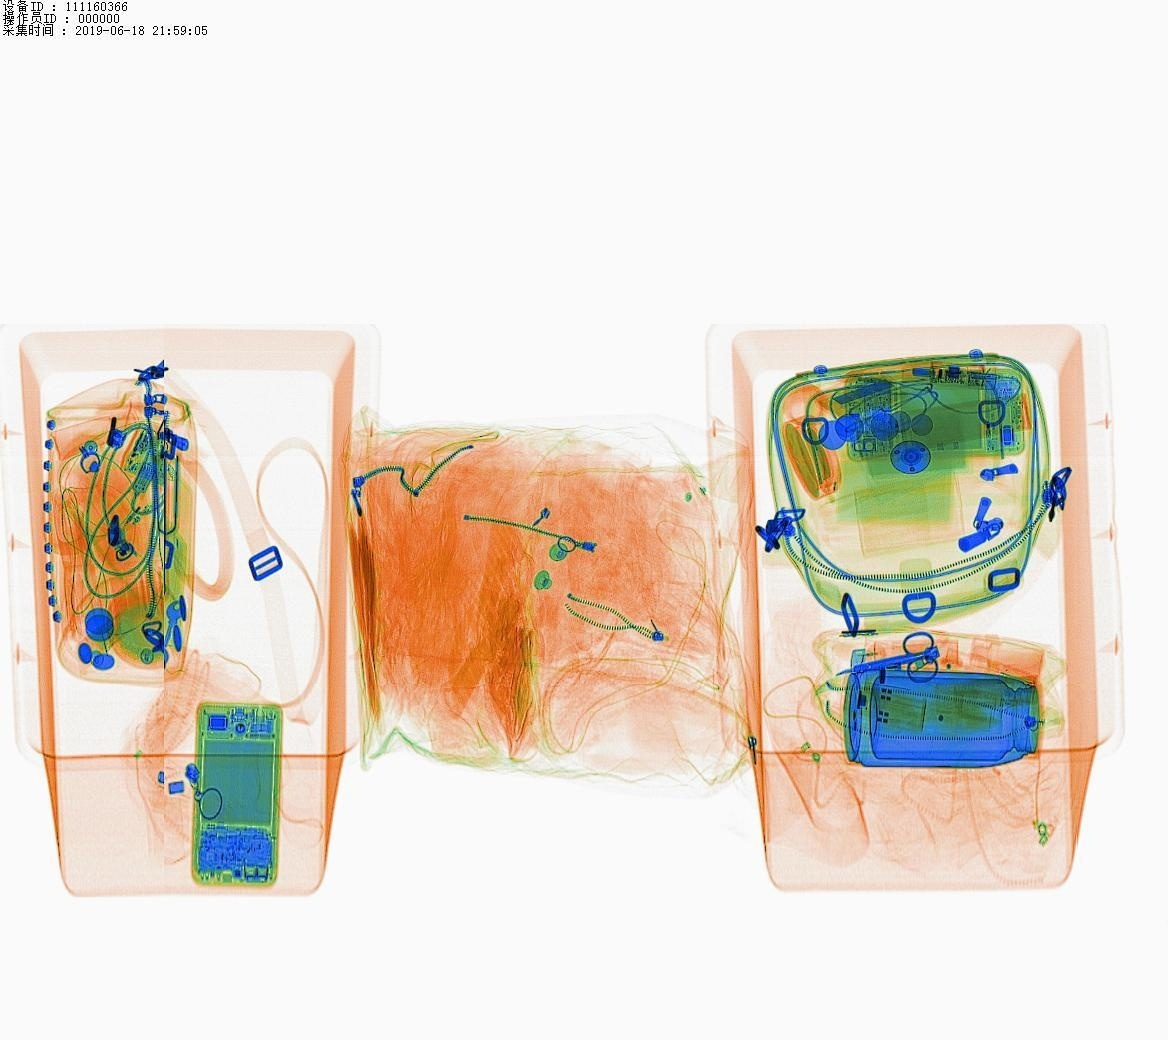NonmetallicFire: (840, 632, 978, 693)
